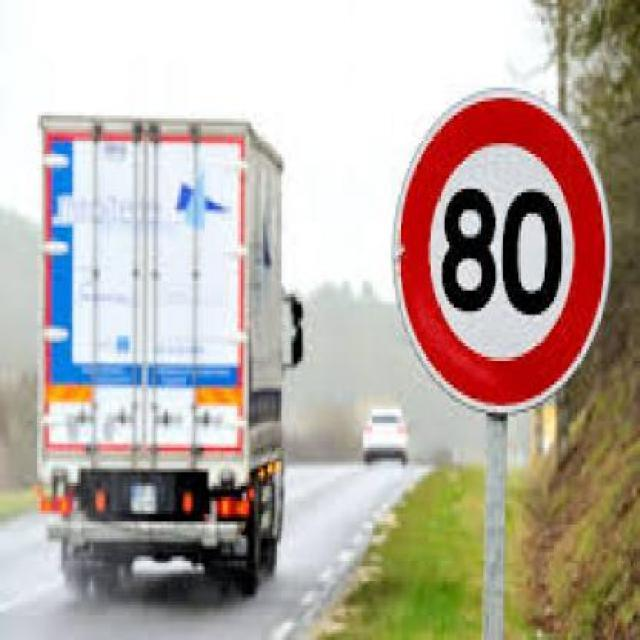speed limit 80: (391, 86, 614, 419)
